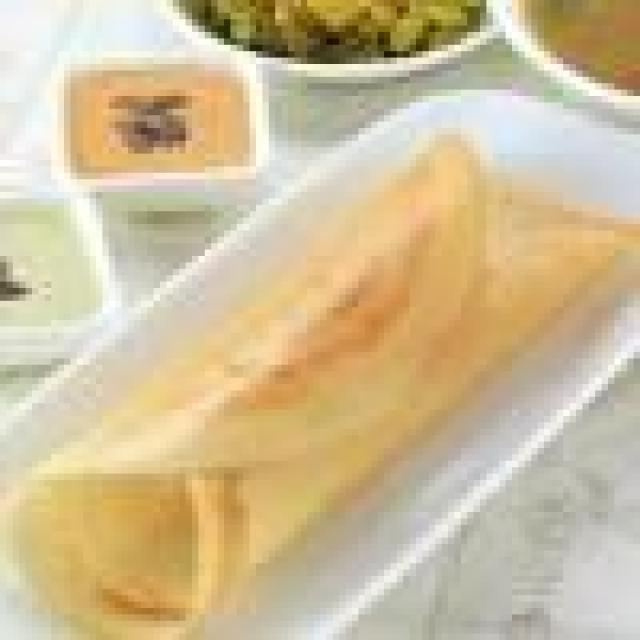chutney: (0, 186, 109, 346)
dosa: (19, 122, 608, 595)
